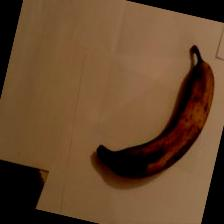Banana Rotten: (140, 34, 224, 194), (68, 121, 218, 209)
